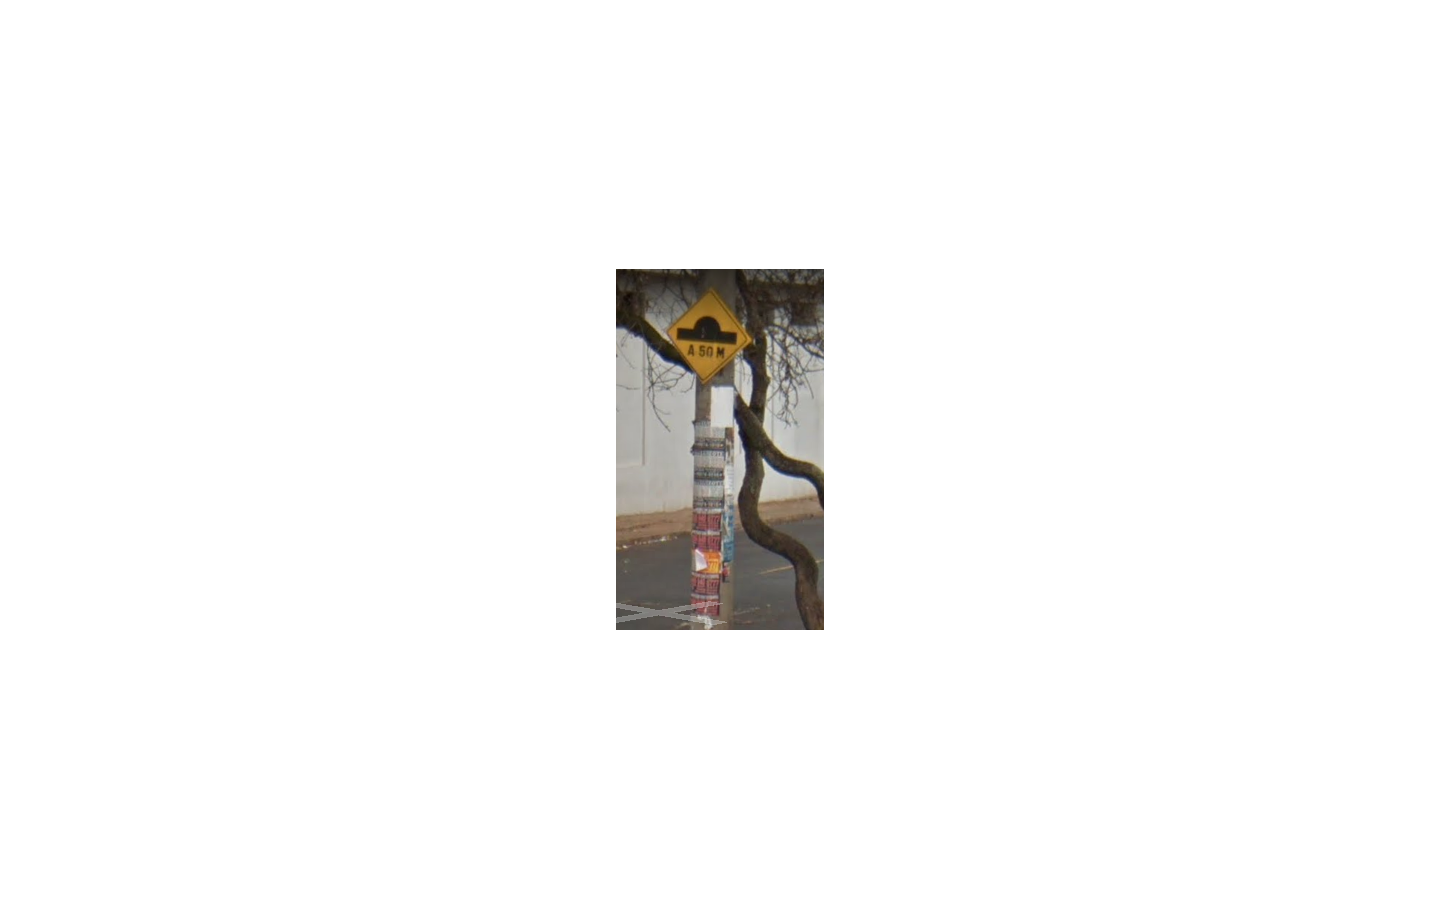l50m: (666, 289, 751, 384)
